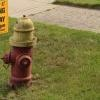a fire hydrant: (2, 15, 37, 85)
